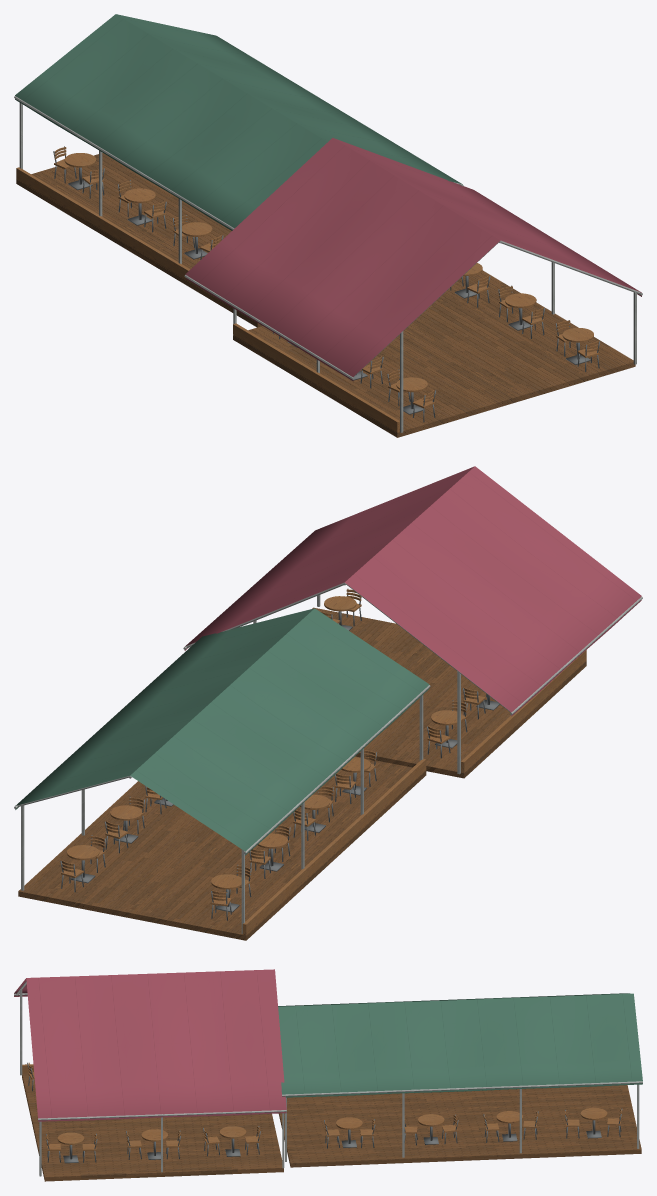
The picture shows the model from 3 angles, top to bottom: view 1: azimuth 30°, elevation 25°; view 2: azimuth 150°, elevation 25°; view 3: azimuth 270°, elevation 25°; orthographic projection. The views are drawn at different scales.
Visible parts, largest first — view 1: Burgundy, Green, Deck, Teak, Canopy frame, Metal; view 2: Green, Burgundy, Deck, Teak, Canopy frame, Metal; view 3: Burgundy, Deck, Green, Teak, Canopy frame, Metal.
Boxes of the visible parts, <box> form: Burgundy: <box>185,138,641,380</box>; Green: <box>15,14,462,230</box>; Deck: <box>16,153,635,437</box>; Teak: <box>16,147,599,432</box>; Canopy frame: <box>14,96,642,432</box>; Metal: <box>53,146,599,422</box>; Green: <box>15,608,429,855</box>; Burgundy: <box>184,466,641,716</box>; Deck: <box>18,607,586,940</box>; Teak: <box>61,589,586,935</box>; Canopy frame: <box>14,582,642,933</box>; Metal: <box>60,588,499,920</box>; Burgundy: <box>14,969,286,1121</box>; Deck: <box>22,1074,641,1181</box>; Green: <box>278,993,642,1097</box>; Teak: <box>22,1062,621,1150</box>; Canopy frame: <box>14,981,642,1176</box>; Metal: <box>27,1062,622,1163</box>.
Size of the model in its own units: 10.01 by 4.99 by 19.83.
Materials: 6 (5 with a texture image).
